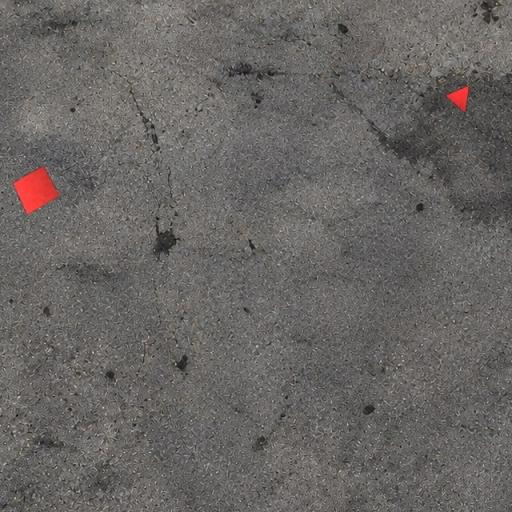RED_SQUARE: (12, 165, 60, 216)
